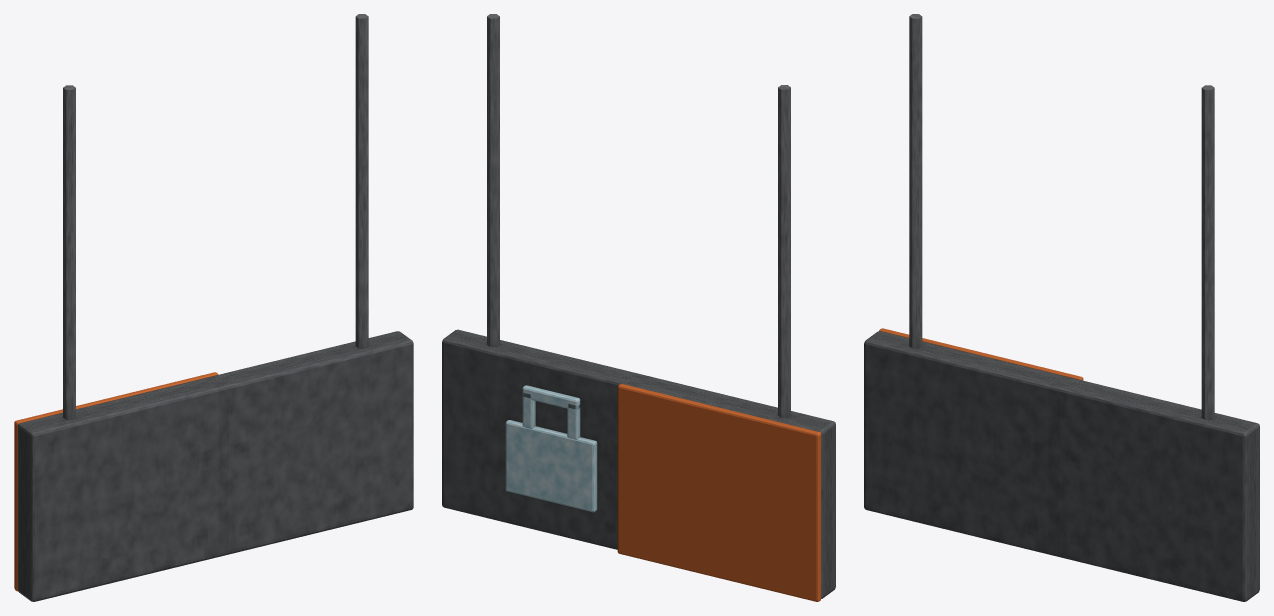
File: base_hanging_sign_store.glb
The picture shows the model from 3 angles, left to right: view 1: azimuth 30°, elevation 25°; view 2: azimuth 150°, elevation 25°; view 3: azimuth 330°, elevation 25°; orthographic projection.
Visible parts, largest first — view 1: base_hanging_sign_store; view 2: base_hanging_sign_store; view 3: base_hanging_sign_store.
Boxes of the visible parts, left/top/right/bottom form: base_hanging_sign_store: left=14, top=14, right=413, bottom=601; base_hanging_sign_store: left=442, top=14, right=835, bottom=601; base_hanging_sign_store: left=864, top=14, right=1259, bottom=601.
Size of the model in its own units: 1.7 by 2.12 by 0.145.
Materials: 3 (3 with a texture image).
